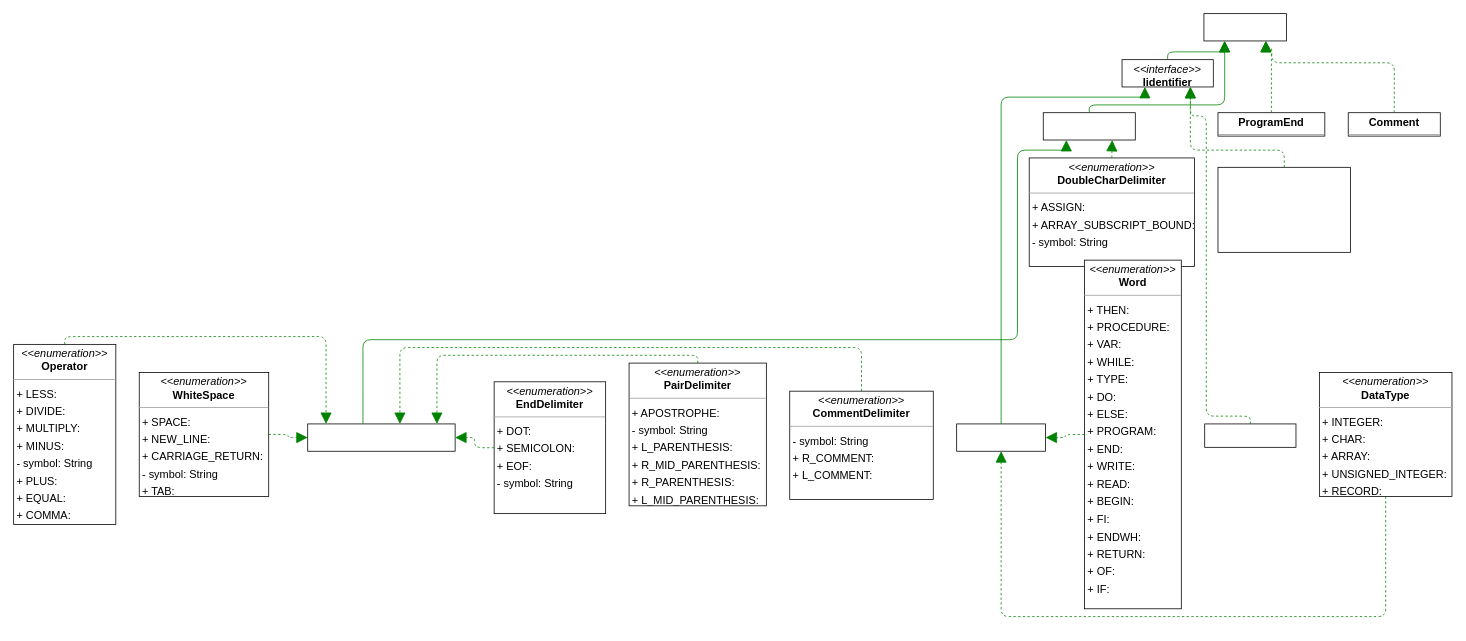
This 1466x641 diagram has some shape labels left out. Each missing label, with the centre of its shape:
<<enumeration>> Constant + CHAR: + UNSIGNED_INTEGER:: the point at 1284,209
<<interface>> Delimiter: the point at 1088,126
<<interface>> KeyWord: the point at 1001,437
<<interface>> LexType: the point at 1245,27
<<interface>> SingleCharDelimiter: the point at 381,437
Identifier: the point at 1250,435
